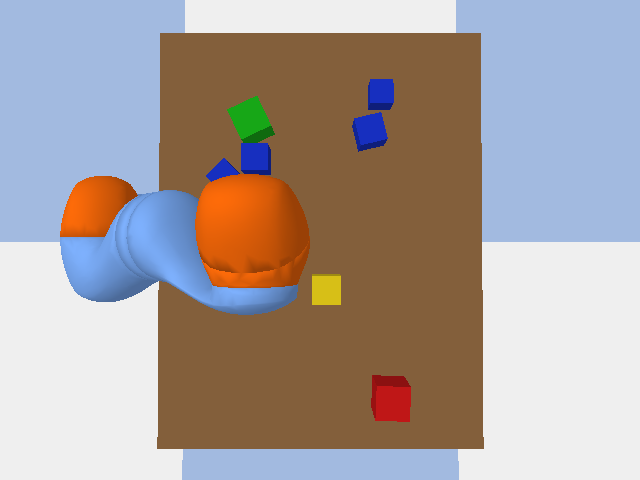blue_obj: (352, 112, 387, 151), (241, 143, 270, 174), (206, 158, 239, 181), (368, 79, 393, 109)
green_obj: (227, 96, 274, 142)
red_obj: (371, 375, 410, 421)
yellow_obj: (312, 274, 340, 304)
